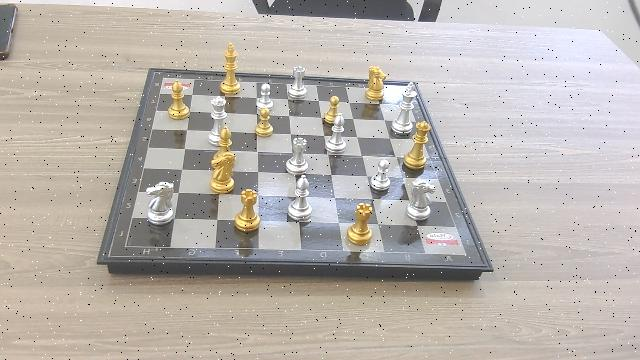black_bishop: (168, 78, 189, 120), (217, 127, 235, 150)
black_king: (219, 42, 241, 94)
black_knight: (210, 149, 237, 193), (365, 65, 387, 101)
black_pawn: (256, 108, 274, 137), (324, 93, 341, 121)
black_queen: (402, 121, 432, 169)
black_rook: (234, 186, 263, 231), (346, 201, 375, 245)
white_bishop: (288, 174, 315, 221), (326, 112, 347, 153)
white_king: (393, 81, 419, 134)
white_knight: (405, 179, 440, 220), (145, 179, 175, 225)
white_pawn: (371, 159, 391, 191), (257, 83, 274, 109)
white_queen: (208, 96, 227, 144)
white_rook: (284, 136, 309, 172), (289, 65, 307, 99)
